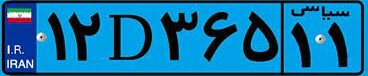character: (105, 8, 154, 65), (159, 7, 199, 65), (66, 5, 104, 66), (201, 5, 238, 67), (240, 8, 279, 66), (40, 10, 67, 68), (326, 19, 351, 76), (290, 19, 314, 72)
